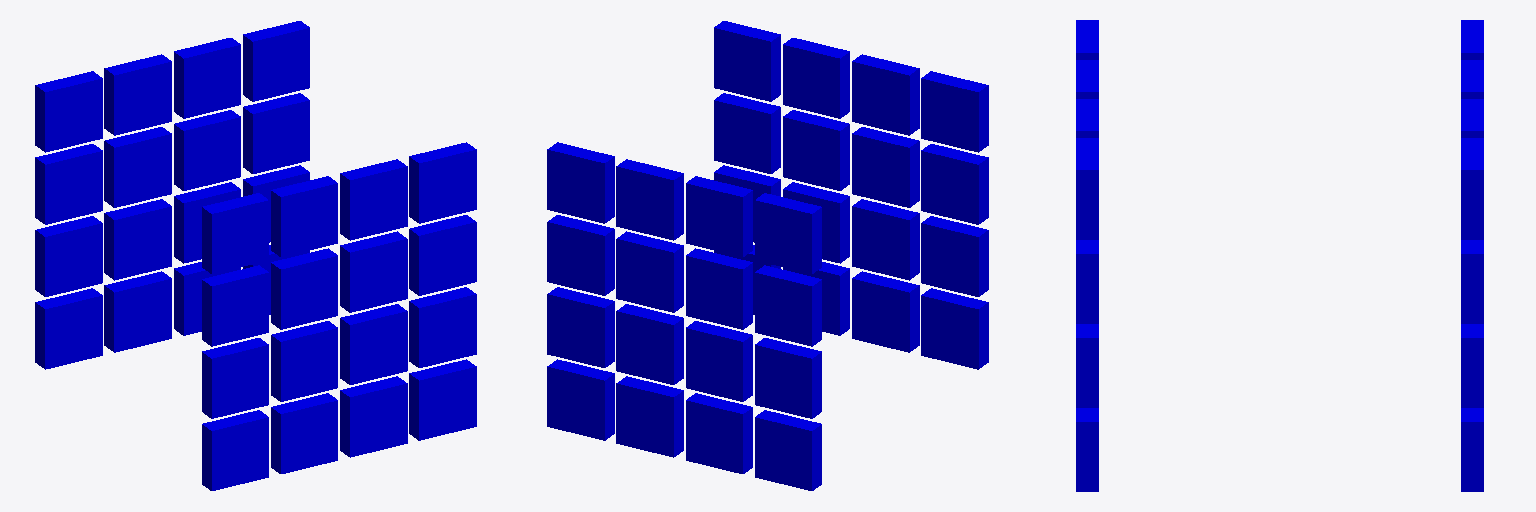
--- Facts derived from the render (not from the file) ---
Views: 3 orthographic renders of the robot side by side, from view 1: azimuth 30°, elevation 25°; view 2: azimuth 150°, elevation 25°; view 3: azimuth 270°, elevation 25°.
Model vx300 with 45 links and 44 joints (5 revolute, 2 prismatic, 37 fixed), rooted at vx300/base_link, posed joints at zero except 2 at the middle of their limits (left_finger = 0.039, right_finger = -0.039).
Links seen in each view (by area): view 1: vx300/left_tactile_map_link13, vx300/right_tactile_map_link4, vx300/left_tactile_map_link10, vx300/left_tactile_map_link15, vx300/right_tactile_map_link2, vx300/right_tactile_map_link7, vx300/left_tactile_map_link11, vx300/left_tactile_map_link16, vx300/right_tactile_map_link1, vx300/right_tactile_map_link6, vx300/left_tactile_map_link9, vx300/left_tactile_map_link12 (+19 smaller); view 2: vx300/left_tactile_map_link4, vx300/right_tactile_map_link13, vx300/left_tactile_map_link1, vx300/left_tactile_map_link6, vx300/right_tactile_map_link11, vx300/right_tactile_map_link16, vx300/left_tactile_map_link2, vx300/right_tactile_map_link15, vx300/left_tactile_map_link5, vx300/left_tactile_map_link7, vx300/left_tactile_map_link8, vx300/right_tactile_map_link9 (+19 smaller); view 3: vx300/left_tactile_map_link4, vx300/right_tactile_map_link4, vx300/left_tactile_map_link1, vx300/left_tactile_map_link2, vx300/left_tactile_map_link3, vx300/right_tactile_map_link1, vx300/right_tactile_map_link2, vx300/right_tactile_map_link3, vx300/left_tactile_map_link16, vx300/right_tactile_map_link16, vx300/left_tactile_map_link8, vx300/left_tactile_map_link12 (+2 smaller).
Link boxes in pixels (<box>): vx300/left_tactile_map_link13: <box>35,288,102,369</box>; vx300/right_tactile_map_link4: <box>409,142,476,223</box>; vx300/left_tactile_map_link10: <box>104,199,171,280</box>; vx300/left_tactile_map_link15: <box>35,144,102,224</box>; vx300/right_tactile_map_link2: <box>409,287,476,367</box>; vx300/right_tactile_map_link7: <box>340,231,407,312</box>; vx300/left_tactile_map_link11: <box>104,127,171,207</box>; vx300/left_tactile_map_link16: <box>35,71,102,152</box>; vx300/right_tactile_map_link1: <box>409,359,476,440</box>; vx300/right_tactile_map_link6: <box>340,304,407,384</box>; vx300/left_tactile_map_link9: <box>104,271,171,352</box>; vx300/left_tactile_map_link12: <box>104,54,171,135</box>; vx300/left_tactile_map_link4: <box>547,142,614,223</box>; vx300/right_tactile_map_link13: <box>921,288,988,369</box>; vx300/left_tactile_map_link1: <box>547,359,614,440</box>; vx300/left_tactile_map_link6: <box>616,304,683,384</box>; vx300/right_tactile_map_link11: <box>852,127,919,207</box>; vx300/right_tactile_map_link16: <box>921,71,988,152</box>; vx300/left_tactile_map_link2: <box>547,287,614,367</box>; vx300/right_tactile_map_link15: <box>921,144,988,224</box>; vx300/left_tactile_map_link5: <box>616,376,683,457</box>; vx300/left_tactile_map_link7: <box>616,231,683,312</box>; vx300/left_tactile_map_link8: <box>616,159,683,240</box>; vx300/right_tactile_map_link9: <box>852,271,919,352</box>; vx300/left_tactile_map_link4: <box>1461,138,1483,239</box>; vx300/right_tactile_map_link4: <box>1076,138,1098,239</box>; vx300/left_tactile_map_link1: <box>1461,408,1483,491</box>; vx300/left_tactile_map_link2: <box>1461,324,1483,407</box>; vx300/left_tactile_map_link3: <box>1461,240,1483,323</box>; vx300/right_tactile_map_link1: <box>1076,408,1098,491</box>; vx300/right_tactile_map_link2: <box>1076,324,1098,407</box>; vx300/right_tactile_map_link3: <box>1076,240,1098,323</box>; vx300/left_tactile_map_link16: <box>1461,20,1483,59</box>; vx300/right_tactile_map_link16: <box>1076,20,1098,59</box>; vx300/left_tactile_map_link8: <box>1461,99,1483,137</box>; vx300/left_tactile_map_link12: <box>1461,60,1483,98</box>.
Bounding box of the posed robot: 0.046 × 0.053 × 0.046 m (x, y, z).
Meshes: 9 distinct files referenced, 0 mesh visuals loaded (none loaded); not drawn: 10 (reference not matched to a file when rendering).

robot.urdf — vx300:
<?xml version="1.0" ?>
<!-- =================================================================================== -->
<!-- |    This document was autogenerated by xacro from vx300.urdf.xacro               | -->
<!-- |    EDITING THIS FILE BY HAND IS NOT RECOMMENDED                                 | -->
<!-- =================================================================================== -->
<robot name="vx300">
  <!-- <material name="interbotix_black">
    <texture filename="meshes/interbotix_black.png"/>
  </material> -->
  <link name="vx300/base_link">
    <visual>
      <origin rpy="0 0 1.5707963267948966" xyz="0 0 0"/>
      <geometry>
        <mesh filename="meshes/vx300_meshes/vx300_1_base.stl" scale="0.001 0.001 0.001"/>
      </geometry>
    </visual>
    <collision>
      <origin rpy="0 0 1.5707963267948966" xyz="0 0 0"/>
      <geometry>
        <mesh filename="meshes/vx300_meshes/vx300_1_base.stl" scale="0.001 0.001 0.001"/>
      </geometry>
    </collision>
    <inertial>
      <origin rpy="0 0 1.5707963267948966" xyz="-0.0534774000 -0.0001625750 0.0205961000"/>
      <mass value="0.969034"/>
      <inertia ixx="0.0060240000" ixy="0.0000471300" ixz="0.0000038510" iyy="0.0017000000" iyz="-0.0000841500" izz="0.0071620000"/>
    </inertial>
  </link>
  <joint name="waist" type="revolute">
    <axis xyz="0 0 1"/>
    <limit effort="30" lower="-3.141582653589793" upper="3.141582653589793" velocity="3.141592653589793"/>
    <origin rpy="0 0 0" xyz="0 0 0.079"/>
    <parent link="vx300/base_link"/>
    <child link="vx300/shoulder_link"/>
    <dynamics friction="0.1"/>
  </joint>

  <link name="vx300/shoulder_link">
    <visual>
      <origin rpy="0 0 1.5707963267948966" xyz="0 0 -0.003"/>
      <geometry>
        <mesh filename="meshes/vx300_meshes/vx300_2_shoulder.stl" scale="0.001 0.001 0.001"/>
      </geometry>
    </visual>
    <collision>
      <origin rpy="0 0 1.5707963267948966" xyz="0 0 -0.003"/>
      <geometry>
        <mesh filename="meshes/vx300_meshes/vx300_2_shoulder.stl" scale="0.001 0.001 0.001"/>
      </geometry>
    </collision>
    <inertial>
      <origin rpy="0 0 1.5707963267948966" xyz="0.0002592330 -0.0000033552 0.0116129000"/>
      <mass value="0.798614"/>
      <inertia ixx="0.0009388000" ixy="-0.0000000010" ixz="-0.0000000191" iyy="0.0011380000" iyz="0.0000019568" izz="0.0012010000"/>
    </inertial>
  </link>
  <joint name="shoulder" type="revolute">
    <axis xyz="0 1 0"/>
    <limit effort="20" lower="-1.8500490071139892" upper="1.2566370614359172" velocity="3.141592653589793"/>
    <origin rpy="0 0 0" xyz="0 0 0.04805"/>
    <parent link="vx300/shoulder_link"/>
    <child link="vx300/upper_arm_link"/>
    <dynamics friction="0.1"/>
  </joint>
  <link name="vx300/upper_arm_link">
    <visual>
      <origin rpy="0 0 1.5707963267948966" xyz="0 0 0"/>
      <geometry>
        <mesh filename="meshes/vx300_meshes/vx300_3_upper_arm.stl" scale="0.001 0.001 0.001"/>
      </geometry>
    </visual>
    <collision>
      <origin rpy="0 0 1.5707963267948966" xyz="0 0 0"/>
      <geometry>
        <mesh filename="meshes/vx300_meshes/vx300_3_upper_arm.stl" scale="0.001 0.001 0.001"/>
      </geometry>
    </collision>
    <inertial>
      <origin rpy="0 0 1.5707963267948966" xyz="0.0206949000 0.0000000004 0.2264590000"/>
      <mass value="0.792592"/>
      <inertia ixx="0.0089250000" ixy="0.0000000000" ixz="0.0000000000" iyy="0.0089370000" iyz="0.0012010000" izz="0.0009357000"/>
    </inertial>
  </link>
  <joint name="elbow" type="revolute">
    <axis xyz="0 1 0"/>
    <limit effort="15" lower="-1.7627825445142729" upper="1.6057029118347832" velocity="3.141592653589793"/>
    <origin rpy="0 0 0" xyz="0.05955 0 0.3"/>
    <parent link="vx300/upper_arm_link"/>
    <child link="vx300/forearm_link"/>
    <dynamics friction="0.1"/>
  </joint>
  <link name="vx300/forearm_link">
    <visual>
      <origin rpy="0 0 1.5707963267948966" xyz="0 0 0"/>
      <geometry>
        <mesh filename="meshes/vx300_meshes/vx300_4_forearm.stl" scale="0.001 0.001 0.001"/>
      </geometry>
    </visual>
    <collision>
      <origin rpy="0 0 1.5707963267948966" xyz="0 0 0"/>
      <geometry>
        <mesh filename="meshes/vx300_meshes/vx300_4_forearm.stl" scale="0.001 0.001 0.001"/>
      </geometry>
    </collision>
    <inertial>
      <origin rpy="0 0 1.5707963267948966" xyz="0.1812650000 -0.0002065037 0.0000000000"/>
      <mass value="0.544659"/>
      <inertia ixx="0.0054470000" ixy="-0.0000119800" ixz="0.0000000000" iyy="0.0002267000" iyz="0.0000000000" izz="0.0055740000"/>
    </inertial>
  </link>
  <joint name="wrist_angle" type="revolute">
    <axis xyz="0 1 0"/>
    <limit effort="5" lower="-1.8675022996339325" upper="2.234021442552742" velocity="3.141592653589793"/>
    <origin rpy="0 0 0" xyz="0.3 0 0"/>
    <parent link="vx300/forearm_link"/>
    <child link="vx300/wrist_link"/>
    <dynamics friction="0.1"/>
  </joint>
  <link name="vx300/wrist_link">
    <visual>
      <origin rpy="0 0 1.5707963267948966" xyz="0 0 0"/>
      <geometry>
        <mesh filename="meshes/vx300_meshes/vx300_5_wrist.stl" scale="0.001 0.001 0.001"/>
      </geometry>
    </visual>
    <collision>
      <origin rpy="0 0 1.5707963267948966" xyz="0 0 0"/>
      <geometry>
        <mesh filename="meshes/vx300_meshes/vx300_5_wrist.stl" scale="0.001 0.001 0.001"/>
      </geometry>
    </collision>
    <inertial>
      <origin rpy="0 0 1.5707963267948966" xyz="0.0467430000 -0.0000076652 0.0105650000"/>
      <mass value="0.115395"/>
      <inertia ixx="0.0000463100" ixy="0.0000000195" ixz="0.0000000023" iyy="0.0000451400" iyz="0.0000042002" izz="0.0000127000"/>
    </inertial>
  </link>
  <joint name="wrist_rotate" type="revolute">
    <axis xyz="1 0 0"/>
    <limit effort="1" lower="-3.141582653589793" upper="3.141582653589793" velocity="3.141592653589793"/>
    <origin rpy="0 0 0" xyz="0.069744 0 0"/>
    <parent link="vx300/wrist_link"/>
    <child link="vx300/gripper_link"/>
    <dynamics friction="0.1"/>
  </joint>
  <link name="vx300/gripper_link">
    <visual>
      <origin rpy="0 0 1.5707963267948966" xyz="-0.02 0 0"/>
      <geometry>
        <mesh filename="meshes/vx300_meshes/vx300_6_gripper.stl" scale="0.001 0.001 0.001"/>
      </geometry>
    </visual>
    <collision>
      <origin rpy="0 0 1.5707963267948966" xyz="-0.02 0 0"/>
      <geometry>
        <mesh filename="meshes/vx300_meshes/vx300_6_gripper.stl" scale="0.001 0.001 0.001"/>
      </geometry>
    </collision>
    <inertial>
      <origin rpy="0 0 1.5707963267948966" xyz="0.0230010000 0.0000000000 0.0115230000"/>
      <mass value="0.097666"/>
      <inertia ixx="0.0000326800" ixy="0.0000000000" ixz="0.0000000000" iyy="0.0000243600" iyz="0.0000002785" izz="0.0000211900"/>
    </inertial>
  </link>
  <joint name="ee_arm" type="fixed">
    <axis xyz="1 0 0"/>
    <origin rpy="0 0 0" xyz="0.042825 0 0"/>
    <parent link="vx300/gripper_link"/>
    <child link="vx300/ee_arm_link"/>
  </joint>
  <link name="vx300/ee_arm_link">
    <inertial>
      <mass value="0.001"/>
      <inertia ixx="0.0001" ixy="0" ixz="0" iyy="0.0001" iyz="0" izz="0.0001"/>
    </inertial>
  </link>
  <joint name="gripper" type="fixed">
    <axis xyz="1 0 0"/>
    <limit effort="1" velocity="3.141592653589793"/>
    <origin rpy="0 0 0" xyz="0.005675 0 0"/>
    <parent link="vx300/ee_arm_link"/>
    <child link="vx300/gripper_prop_link"/>
    <dynamics friction="0.1"/>
  </joint>
  <link name="vx300/gripper_prop_link">
    <visual>
      <origin rpy="0 0 1.5707963267948966" xyz="-0.0685 0 0"/>
      <geometry>
        <mesh filename="meshes/vx300_meshes/vx300_7_gripper_prop.stl" scale="0.001 0.001 0.001"/>
      </geometry>
    </visual>
    <collision>
      <origin rpy="0 0 1.5707963267948966" xyz="-0.0685 0 0"/>
      <geometry>
        <mesh filename="meshes/vx300_meshes/vx300_7_gripper_prop.stl" scale="0.001 0.001 0.001"/>
      </geometry>
    </collision>
    <inertial>
      <origin rpy="0 0 1.5707963267948966" xyz="0.0023780000 0.0000000285 0.0000000000"/>
      <mass value="0.008009"/>
      <inertia ixx="0.0000020386" ixy="0.0000000000" ixz="0.0000006559" iyy="0.0000042979" iyz="0.0000000000" izz="0.0000023796"/>
    </inertial>
  </link>
  <!-- If the AR tag is being used, then add the AR tag mount -->
  <!-- If the gripper bar is being used, then also add the gripper bar -->
  <joint name="gripper_bar" type="fixed">
    <axis xyz="1 0 0"/>
    <origin rpy="0 0 0" xyz="0 0 0"/>
    <parent link="vx300/ee_arm_link"/>
    <child link="vx300/gripper_bar_link"/>
  </joint>
  <link name="vx300/gripper_bar_link">
    <visual>
      <origin rpy="0 0 1.5707963267948966" xyz="-0.063 0 0"/>
      <geometry>
        <mesh filename="meshes/vx300_meshes/vx300_8_gripper_bar.stl" scale="0.001 0.001 0.001"/>
      </geometry>
    </visual>
    <collision>
      <origin rpy="0 0 1.5707963267948966" xyz="-0.063 0 0"/>
      <geometry>
        <mesh filename="meshes/vx300_meshes/vx300_8_gripper_bar.stl" scale="0.001 0.001 0.001"/>
      </geometry>
    </collision>
    <inertial>
      <origin rpy="0 0 1.5707963267948966" xyz="0.0067940000 -0.0000004272 -0.0007760000"/>
      <mass value="0.150986"/>
      <inertia ixx="0.0000789500" ixy="-0.0000000012" ixz="0.0000001341" iyy="0.0003283000" iyz="0.0000017465" izz="0.0003095000"/>
    </inertial>
  </link>
  <joint name="ee_bar" type="fixed">
    <axis xyz="1 0 0"/>
    <origin rpy="0 0 0" xyz="0.025875 0 0"/>
    <parent link="vx300/gripper_bar_link"/>
    <child link="vx300/fingers_link"/>
  </joint>
  <link name="vx300/fingers_link">
    <inertial>
      <mass value="0.001"/>
      <inertia ixx="0.0001" ixy="0" ixz="0" iyy="0.0001" iyz="0" izz="0.0001"/>
    </inertial>
  </link>
  <!-- If the gripper fingers are being used, add those as well -->
  <joint name="left_finger" type="prismatic">
    <axis xyz="0 1 0"/>
    <limit effort="1" lower="0.021" upper="0.057" velocity="3.14"/>
    <origin rpy="0 0 0" xyz="0 0 0"/>
    <parent link="vx300/fingers_link"/>
    <child link="vx300/left_finger_link"/>
    <dynamics friction="0.1"/>
  </joint>
  <link name="vx300/left_finger_link">
    <visual>
      <origin rpy="1.5707963267948966 -3.141592653589793 1.5707963267948966" xyz="-0.0404 -0.0575 0"/>
      <geometry>
        <mesh filename="meshes/vx300_meshes/vx300_9_gripper_finger.stl" scale="0.001 0.001 0.001"/>
      </geometry>
    </visual>
    <collision>
      <origin rpy="1.5707963267948966 -3.141592653589793 1.5707963267948966" xyz="-0.0404 -0.0575 0"/>
      <geometry>
        <mesh filename="meshes/vx300_meshes/vx300_9_gripper_finger.stl" scale="0.001 0.001 0.001"/>
      </geometry>
    </collision>
    <inertial>
      <origin rpy="3.141592653589793 3.141592653589793 1.5707963267948966" xyz="0.0173440000 -0.0060692000 0.0000000000"/>
      <!-- <mass value="0.034796"/> -->
      <mass value="0.001"/>
      <inertia ixx="0.0000243300" ixy="-0.0000024004" ixz="0.0000000000" iyy="0.0000125500" iyz="0.0000000000" izz="0.0000141700"/>
    </inertial>
  </link>

  <!-- ====================================If the tactile sensors are being used, add those as well ======================================-->
  <joint name="left_tactile_1" type="fixed">
    <axis xyz="1 0 0"/>
    <origin rpy="0 0 1.5707" xyz="0 0 0"/>
    <parent link="vx300/left_finger_link"/>
    <child link="vx300/left_tactile_map_link1"/>
  </joint>
  <link name="vx300/left_tactile_map_link1">
    <visual>
      <origin rpy="0 0 0" xyz="-0.014 -0.05 -0.018"/>
      <geometry>
        <box size="0.003001 0.01 0.01"/>
      </geometry>
      <material name="blue">
        <color rgba= "0 0 1 1"/>
      </material>
    </visual>
    <collision>
      <origin rpy="0 0 0" xyz="-0.014 -0.05 -0.018"/>
      <geometry>
        <box size="0.003001 0.01 0.01"/>
      </geometry>
    </collision>
    <inertial>
      <origin rpy="3.141592653589793 3.141592653589793 1.5707963267948966" xyz="0.0173440000 -0.0060692000 0.0000000000"/>
      <!-- <mass value="0.034796"/> -->
      <mass value="0.0001"/>
      <inertia ixx="0.0000243300" ixy="-0.0000024004" ixz="0.0000000000" iyy="0.0000125500" iyz="0.0000000000" izz="0.0000141700"/>
    </inertial>
  </link>

  <joint name="left_tactile_2" type="fixed">
    <axis xyz="1 0 0"/>
    <origin rpy="0 0 1.5707" xyz="0 0 0"/>
    <parent link="vx300/left_finger_link"/>
    <child link="vx300/left_tactile_map_link2"/>
  </joint>
  <link name="vx300/left_tactile_map_link2">
    <visual>
      <origin rpy="0 0 0" xyz="-0.014 -0.05 -0.006"/>
      <geometry>
        <box size="0.003001 0.01 0.01"/>
      </geometry>
      <material name="blue">
        <color rgba= "0 0 1 1"/>
      </material>
    </visual>
    <collision>
      <origin rpy="0 0 0" xyz="-0.014 -0.05 -0.006"/>
      <geometry>
        <box size="0.003001 0.01 0.01"/>
      </geometry>
    </collision>
    <inertial>
      <origin rpy="3.141592653589793 3.141592653589793 1.5707963267948966" xyz="0.0173440000 -0.0060692000 0.0000000000"/>
      <!-- <mass value="0.034796"/> -->
      <mass value="0.0001"/>
      <inertia ixx="0.0000243300" ixy="-0.0000024004" ixz="0.0000000000" iyy="0.0000125500" iyz="0.0000000000" izz="0.0000141700"/>
    </inertial>
  </link>

  <joint name="left_tactile_3" type="fixed">
    <axis xyz="1 0 0"/>
    <origin rpy="0 0 1.5707" xyz="0 0 0"/>
    <parent link="vx300/left_finger_link"/>
    <child link="vx300/left_tactile_map_link3"/>
  </joint>
  <link name="vx300/left_tactile_map_link3">
    <visual>
      <origin rpy="0 0 0" xyz="-0.014 -0.05 0.006"/>
      <geometry>
        <box size="0.003001 0.01 0.01"/>
      </geometry>
      <material name="blue">
        <color rgba= "0 0 1 1"/>
      </material>
    </visual>
    <collision>
      <origin rpy="0 0 0" xyz="-0.014 -0.05 0.006"/>
      <geometry>
        <box size="0.003001 0.01 0.01"/>
      </geometry>
    </collision>
    <inertial>
      <origin rpy="3.141592653589793 3.141592653589793 1.5707963267948966" xyz="0.0173440000 -0.0060692000 0.0000000000"/>
      <!-- <mass value="0.034796"/> -->
      <mass value="0.0001"/>
      <inertia ixx="0.0000243300" ixy="-0.0000024004" ixz="0.0000000000" iyy="0.0000125500" iyz="0.0000000000" izz="0.0000141700"/>
    </inertial>
  </link>

  <joint name="left_tactile_4" type="fixed">
    <axis xyz="1 0 0"/>
    <origin rpy="0 0 1.5707" xyz="0 0 0"/>
    <parent link="vx300/left_finger_link"/>
    <child link="vx300/left_tactile_map_link4"/>
  </joint>
  <link name="vx300/left_tactile_map_link4">
    <visual>
      <origin rpy="0 0 0" xyz="-0.014 -0.05 0.018"/>
      <geometry>
        <box size="0.003001 0.01 0.01"/>
      </geometry>
      <material name="blue">
        <color rgba= "0 0 1 1"/>
      </material>
    </visual>
    <collision>
      <origin rpy="0 0 0" xyz="-0.014 -0.05 0.018"/>
      <geometry>
        <box size="0.003001 0.01 0.01"/>
      </geometry>
    </collision>
    <inertial>
      <origin rpy="3.141592653589793 3.141592653589793 1.5707963267948966" xyz="0.0173440000 -0.0060692000 0.0000000000"/>
      <!-- <mass value="0.034796"/> -->
      <mass value="0.0001"/>
      <inertia ixx="0.0000243300" ixy="-0.0000024004" ixz="0.0000000000" iyy="0.0000125500" iyz="0.0000000000" izz="0.0000141700"/>
    </inertial>
  </link>

  <joint name="left_tactile_5" type="fixed">
    <axis xyz="1 0 0"/>
    <origin rpy="0 0 1.5707" xyz="0 0 0"/>
    <parent link="vx300/left_finger_link"/>
    <child link="vx300/left_tactile_map_link5"/>
  </joint>
  <link name="vx300/left_tactile_map_link5">
    <visual>
      <origin rpy="0 0 0" xyz="-0.014 -0.038 -0.018"/>
      <geometry>
        <box size="0.003001 0.01 0.01"/>
      </geometry>
      <material name="blue">
        <color rgba= "0 0 1 1"/>
      </material>
    </visual>
    <collision>
      <origin rpy="0 0 0" xyz="-0.014 -0.038 -0.018"/>
      <geometry>
        <box size="0.003001 0.01 0.01"/>
      </geometry>
    </collision>
    <inertial>
      <origin rpy="3.141592653589793 3.141592653589793 1.5707963267948966" xyz="0.0173440000 -0.0060692000 0.0000000000"/>
      <!-- <mass value="0.034796"/> -->
      <mass value="0.0001"/>
      <inertia ixx="0.0000243300" ixy="-0.0000024004" ixz="0.0000000000" iyy="0.0000125500" iyz="0.0000000000" izz="0.0000141700"/>
    </inertial>
  </link>

  <joint name="left_tactile_6" type="fixed">
    <axis xyz="1 0 0"/>
    <origin rpy="0 0 1.5707" xyz="0 0 0"/>
    <parent link="vx300/left_finger_link"/>
    <child link="vx300/left_tactile_map_link6"/>
  </joint>
  <link name="vx300/left_tactile_map_link6">
    <visual>
      <origin rpy="0 0 0" xyz="-0.014 -0.038 -0.006"/>
      <geometry>
        <box size="0.003001 0.01 0.01"/>
      </geometry>
      <material name="blue">
        <color rgba= "0 0 1 1"/>
      </material>
    </visual>
    <collision>
      <origin rpy="0 0 0" xyz="-0.014 -0.038 -0.006"/>
      <geometry>
        <box size="0.003001 0.01 0.01"/>
      </geometry>
    </collision>
    <inertial>
      <origin rpy="3.141592653589793 3.141592653589793 1.5707963267948966" xyz="0.0173440000 -0.0060692000 0.0000000000"/>
      <!-- <mass value="0.034796"/> -->
      <mass value="0.0001"/>
      <inertia ixx="0.0000243300" ixy="-0.0000024004" ixz="0.0000000000" iyy="0.0000125500" iyz="0.0000000000" izz="0.0000141700"/>
    </inertial>
  </link>

  <joint name="left_tactile_7" type="fixed">
    <axis xyz="1 0 0"/>
    <origin rpy="0 0 1.5707" xyz="0 0 0"/>
    <parent link="vx300/left_finger_link"/>
    <child link="vx300/left_tactile_map_link7"/>
  </joint>
  <link name="vx300/left_tactile_map_link7">
    <visual>
      <origin rpy="0 0 0" xyz="-0.014 -0.038 0.006"/>
      <geometry>
        <box size="0.003001 0.01 0.01"/>
      </geometry>
      <material name="blue">
        <color rgba= "0 0 1 1"/>
      </material>
    </visual>
    <collision>
      <origin rpy="0 0 0" xyz="-0.014 -0.038 0.006"/>
      <geometry>
        <box size="0.003001 0.01 0.01"/>
      </geometry>
    </collision>
    <inertial>
      <origin rpy="3.141592653589793 3.141592653589793 1.5707963267948966" xyz="0.0173440000 -0.0060692000 0.0000000000"/>
      <!-- <mass value="0.034796"/> -->
      <mass value="0.0001"/>
      <inertia ixx="0.0000243300" ixy="-0.0000024004" ixz="0.0000000000" iyy="0.0000125500" iyz="0.0000000000" izz="0.0000141700"/>
    </inertial>
  </link>

  <joint name="left_tactile_8" type="fixed">
    <axis xyz="1 0 0"/>
    <origin rpy="0 0 1.5707" xyz="0 0 0"/>
    <parent link="vx300/left_finger_link"/>
    <child link="vx300/left_tactile_map_link8"/>
  </joint>
  <link name="vx300/left_tactile_map_link8">
    <visual>
      <origin rpy="0 0 0" xyz="-0.014 -0.038 0.018"/>
      <geometry>
        <box size="0.003001 0.01 0.01"/>
      </geometry>
      <material name="blue">
        <color rgba= "0 0 1 1"/>
      </material>
    </visual>
    <collision>
      <origin rpy="0 0 0" xyz="-0.014 -0.038 0.018"/>
      <geometry>
        <box size="0.003001 0.01 0.01"/>
      </geometry>
    </collision>
    <inertial>
      <origin rpy="3.141592653589793 3.141592653589793 1.5707963267948966" xyz="0.0173440000 -0.0060692000 0.0000000000"/>
      <!-- <mass value="0.034796"/> -->
      <mass value="0.0001"/>
      <inertia ixx="0.0000243300" ixy="-0.0000024004" ixz="0.0000000000" iyy="0.0000125500" iyz="0.0000000000" izz="0.0000141700"/>
    </inertial>
  </link>

  <joint name="left_tactile_9" type="fixed">
    <axis xyz="1 0 0"/>
    <origin rpy="0 0 1.5707" xyz="0 0 0"/>
    <parent link="vx300/left_finger_link"/>
    <child link="vx300/left_tactile_map_link9"/>
  </joint>
  <link name="vx300/left_tactile_map_link9">
    <visual>
      <origin rpy="0 0 0" xyz="-0.014 -0.026 -0.018"/>
      <geometry>
        <box size="0.003001 0.01 0.01"/>
      </geometry>
      <material name="blue">
        <color rgba= "0 0 1 1"/>
      </material>
    </visual>
    <collision>
      <origin rpy="0 0 0" xyz="-0.014 -0.026 -0.018"/>
      <geometry>
        <box size="0.003001 0.01 0.01"/>
      </geometry>
    </collision>
    <inertial>
      <origin rpy="3.141592653589793 3.141592653589793 1.5707963267948966" xyz="0.0173440000 -0.0060692000 0.0000000000"/>
      <!-- <mass value="0.034796"/> -->
      <mass value="0.0001"/>
      <inertia ixx="0.0000243300" ixy="-0.0000024004" ixz="0.0000000000" iyy="0.0000125500" iyz="0.0000000000" izz="0.0000141700"/>
    </inertial>
  </link>

  <joint name="left_tactile_10" type="fixed">
    <axis xyz="1 0 0"/>
    <origin rpy="0 0 1.5707" xyz="0 0 0"/>
    <parent link="vx300/left_finger_link"/>
    <child link="vx300/left_tactile_map_link10"/>
  </joint>
  <link name="vx300/left_tactile_map_link10">
    <visual>
      <origin rpy="0 0 0" xyz="-0.014 -0.026 -0.006"/>
      <geometry>
        <box size="0.003001 0.01 0.01"/>
      </geometry>
      <material name="blue">
        <color rgba= "0 0 1 1"/>
      </material>
    </visual>
    <collision>
      <origin rpy="0 0 0" xyz="-0.014 -0.026 -0.006"/>
      <geometry>
        <box size="0.003001 0.01 0.01"/>
      </geometry>
    </collision>
    <inertial>
      <origin rpy="3.141592653589793 3.141592653589793 1.5707963267948966" xyz="0.0173440000 -0.0060692000 0.0000000000"/>
      <!-- <mass value="0.034796"/> -->
      <mass value="0.0001"/>
      <inertia ixx="0.0000243300" ixy="-0.0000024004" ixz="0.0000000000" iyy="0.0000125500" iyz="0.0000000000" izz="0.0000141700"/>
    </inertial>
  </link>

  <joint name="left_tactile_11" type="fixed">
    <axis xyz="1 0 0"/>
    <origin rpy="0 0 1.5707" xyz="0 0 0"/>
    <parent link="vx300/left_finger_link"/>
    <child link="vx300/left_tactile_map_link11"/>
  </joint>
  <link name="vx300/left_tactile_map_link11">
    <visual>
      <origin rpy="0 0 0" xyz="-0.014 -0.026 0.006"/>
      <geometry>
        <box size="0.003001 0.01 0.01"/>
      </geometry>
      <material name="blue">
        <color rgba= "0 0 1 1"/>
      </material>
    </visual>
    <collision>
      <origin rpy="0 0 0" xyz="-0.014 -0.026 0.006"/>
      <geometry>
        <box size="0.003001 0.01 0.01"/>
      </geometry>
    </collision>
    <inertial>
      <origin rpy="3.141592653589793 3.141592653589793 1.5707963267948966" xyz="0.0173440000 -0.0060692000 0.0000000000"/>
      <!-- <mass value="0.034796"/> -->
      <mass value="0.0001"/>
      <inertia ixx="0.0000243300" ixy="-0.0000024004" ixz="0.0000000000" iyy="0.0000125500" iyz="0.0000000000" izz="0.0000141700"/>
    </inertial>
  </link>

  <joint name="left_tactile_12" type="fixed">
    <axis xyz="1 0 0"/>
    <origin rpy="0 0 1.5707" xyz="0 0 0"/>
    <parent link="vx300/left_finger_link"/>
    <child link="vx300/left_tactile_map_link12"/>
  </joint>
  <link name="vx300/left_tactile_map_link12">
    <visual>
      <origin rpy="0 0 0" xyz="-0.014 -0.026 0.018"/>
      <geometry>
        <box size="0.003001 0.01 0.01"/>
      </geometry>
      <material name="blue">
        <color rgba= "0 0 1 1"/>
      </material>
    </visual>
    <collision>
      <origin rpy="0 0 0" xyz="-0.014 -0.026 0.018"/>
      <geometry>
        <box size="0.003001 0.01 0.01"/>
      </geometry>
    </collision>
    <inertial>
      <origin rpy="3.141592653589793 3.141592653589793 1.5707963267948966" xyz="0.0173440000 -0.0060692000 0.0000000000"/>
      <!-- <mass value="0.034796"/> -->
      <mass value="0.0001"/>
      <inertia ixx="0.0000243300" ixy="-0.0000024004" ixz="0.0000000000" iyy="0.0000125500" iyz="0.0000000000" izz="0.0000141700"/>
    </inertial>
  </link>

  <joint name="left_tactile_13" type="fixed">
    <axis xyz="1 0 0"/>
    <origin rpy="0 0 1.5707" xyz="0 0 0"/>
    <parent link="vx300/left_finger_link"/>
    <child link="vx300/left_tactile_map_link13"/>
  </joint>
  <link name="vx300/left_tactile_map_link13">
    <visual>
      <origin rpy="0 0 0" xyz="-0.014 -0.014 -0.018"/>
      <geometry>
        <box size="0.003001 0.01 0.01"/>
      </geometry>
      <material name="blue">
        <color rgba= "0 0 1 1"/>
      </material>
    </visual>
    <collision>
      <origin rpy="0 0 0" xyz="-0.014 -0.014 -0.018"/>
      <geometry>
        <box size="0.003001 0.01 0.01"/>
      </geometry>
    </collision>
    <inertial>
      <origin rpy="3.141592653589793 3.141592653589793 1.5707963267948966" xyz="0.0173440000 -0.0060692000 0.0000000000"/>
      <!-- <mass value="0.034796"/> -->
      <mass value="0.0001"/>
      <inertia ixx="0.0000243300" ixy="-0.0000024004" ixz="0.0000000000" iyy="0.0000125500" iyz="0.0000000000" izz="0.0000141700"/>
    </inertial>
  </link>

  <joint name="left_tactile_14" type="fixed">
    <axis xyz="1 0 0"/>
    <origin rpy="0 0 1.5707" xyz="0 0 0"/>
    <parent link="vx300/left_finger_link"/>
    <child link="vx300/left_tactile_map_link14"/>
  </joint>
  <link name="vx300/left_tactile_map_link14">
    <visual>
      <origin rpy="0 0 0" xyz="-0.014 -0.014 -0.006"/>
      <geometry>
        <box size="0.003001 0.01 0.01"/>
      </geometry>
      <material name="blue">
        <color rgba= "0 0 1 1"/>
      </material>
    </visual>
    <collision>
      <origin rpy="0 0 0" xyz="-0.014 -0.014 -0.006"/>
      <geometry>
        <box size="0.003001 0.01 0.01"/>
      </geometry>
    </collision>
    <inertial>
      <origin rpy="3.141592653589793 3.141592653589793 1.5707963267948966" xyz="0.0173440000 -0.0060692000 0.0000000000"/>
      <!-- <mass value="0.034796"/> -->
      <mass value="0.0001"/>
      <inertia ixx="0.0000243300" ixy="-0.0000024004" ixz="0.0000000000" iyy="0.0000125500" iyz="0.0000000000" izz="0.0000141700"/>
    </inertial>
  </link>

  <joint name="left_tactile_15" type="fixed">
    <axis xyz="1 0 0"/>
    <origin rpy="0 0 1.5707" xyz="0 0 0"/>
    <parent link="vx300/left_finger_link"/>
    <child link="vx300/left_tactile_map_link15"/>
  </joint>
  <link name="vx300/left_tactile_map_link15">
    <visual>
      <origin rpy="0 0 0" xyz="-0.014 -0.014 0.006"/>
      <geometry>
        <box size="0.003001 0.01 0.01"/>
      </geometry>
      <material name="blue">
        <color rgba= "0 0 1 1"/>
      </material>
    </visual>
    <collision>
      <origin rpy="0 0 0" xyz="-0.014 -0.014 0.006"/>
      <geometry>
        <box size="0.003001 0.01 0.01"/>
      </geometry>
    </collision>
    <inertial>
      <origin rpy="3.141592653589793 3.141592653589793 1.5707963267948966" xyz="0.0173440000 -0.0060692000 0.0000000000"/>
      <!-- <mass value="0.034796"/> -->
      <mass value="0.0001"/>
      <inertia ixx="0.0000243300" ixy="-0.0000024004" ixz="0.0000000000" iyy="0.0000125500" iyz="0.0000000000" izz="0.0000141700"/>
    </inertial>
  </link>

  <joint name="left_tactile_16" type="fixed">
    <axis xyz="1 0 0"/>
    <origin rpy="0 0 1.5707" xyz="0 0 0"/>
    <parent link="vx300/left_finger_link"/>
    <child link="vx300/left_tactile_map_link16"/>
  </joint>
  <link name="vx300/left_tactile_map_link16">
    <visual>
      <origin rpy="0 0 0" xyz="-0.014 -0.014 0.018"/>
      <geometry>
        <box size="0.003001 0.01 0.01"/>
      </geometry>
      <material name="blue">
        <color rgba= "0 0 1 1"/>
      </material>
    </visual>
    <collision>
      <origin rpy="0 0 0" xyz="-0.014 -0.014 0.018"/>
      <geometry>
        <box size="0.003001 0.01 0.01"/>
      </geometry>
    </collision>
    <inertial>
      <origin rpy="3.141592653589793 3.141592653589793 1.5707963267948966" xyz="0.0173440000 -0.0060692000 0.0000000000"/>
      <!-- <mass value="0.034796"/> -->
      <mass value="0.0001"/>
      <inertia ixx="0.0000243300" ixy="-0.0000024004" ixz="0.0000000000" iyy="0.0000125500" iyz="0.0000000000" izz="0.0000141700"/>
    </inertial>
  </link>

  <!-- ====================================If the tactile sensors are being used, add those as well ======================================-->

  <joint name="right_finger" type="prismatic">
    <axis xyz="0 1 0"/>
    <limit effort="1" lower="-0.057" upper="-0.021" velocity="3.14"/>
    <origin rpy="0 0 0" xyz="0 0 0"/>
    <parent link="vx300/fingers_link"/>
    <child link="vx300/right_finger_link"/>
    <dynamics friction="0.1"/>
    <mimic joint="left_finger" multiplier="-1" offset="0"/>
  </joint>
  <link name="vx300/right_finger_link">
    <visual>
      <origin rpy="-1.5707963267948966 3.141592653589793 -1.5707963267948966" xyz="-0.0404 0.0575 0 "/>
      <geometry>
        <mesh filename="meshes/vx300_meshes/vx300_9_gripper_finger.stl" scale="0.001 0.001 0.001"/>
      </geometry>
    </visual>
    <collision>
      <origin rpy="-1.5707963267948966 3.141592653589793 -1.5707963267948966" xyz="-0.0404 0.0575 0 "/>
      <geometry>
        <mesh filename="meshes/vx300_meshes/vx300_9_gripper_finger.stl" scale="0.001 0.001 0.001"/>
      </geometry>
    </collision>
    <inertial>
      <origin rpy="0 3.141592653589793 1.5707963267948966" xyz="0.0173440000 0.0060692000  0.0000000000"/>
      <!-- <mass value="0.034796"/> -->
      <mass value="0.001"/>
      <inertia ixx="0.0000243300" ixy="0.0000024001" ixz="0.0000000000" iyy="0.0000125500" iyz="0.0000000000" izz="0.0000141700"/>
    </inertial>
  </link>

  <!-- ====================================If the tactile sensors are being used, add those as well ======================================-->

  <joint name="right_tactile_1" type="fixed">
    <axis xyz="1 0 0"/>
    <origin rpy="0 0 1.5707" xyz="0 0 0"/>
    <parent link="vx300/right_finger_link"/>
    <child link="vx300/right_tactile_map_link1"/>
  </joint>
  <link name="vx300/right_tactile_map_link1">
    <visual>
      <origin rpy="0 0 0" xyz="0.014 -0.05 -0.018"/>
      <geometry>
        <box size="0.003001 0.01 0.01"/>
      </geometry>
      <material name="blue">
        <color rgba= "0 0 1 1"/>
      </material>
    </visual>
    <collision>
      <origin rpy="0 0 0" xyz="0.014 -0.05 -0.018"/>
      <geometry>
        <box size="0.003001 0.01 0.01"/>
      </geometry>
    </collision>
    <inertial>
      <origin rpy="3.141592653589793 3.141592653589793 1.5707963267948966" xyz="0.0173440000 -0.0060692000 0.0000000000"/>
      <!-- <mass value="0.034796"/> -->
      <mass value="0.0001"/>
      <inertia ixx="0.0000243300" ixy="-0.0000024004" ixz="0.0000000000" iyy="0.0000125500" iyz="0.0000000000" izz="0.0000141700"/>
    </inertial>
  </link>

  <joint name="right_tactile_2" type="fixed">
    <axis xyz="1 0 0"/>
    <origin rpy="0 0 1.5707" xyz="0 0 0"/>
    <parent link="vx300/right_finger_link"/>
    <child link="vx300/right_tactile_map_link2"/>
  </joint>
  <link name="vx300/right_tactile_map_link2">
    <visual>
      <origin rpy="0 0 0" xyz="0.014 -0.05 -0.006"/>
      <geometry>
        <box size="0.003001 0.01 0.01"/>
      </geometry>
      <material name="blue">
        <color rgba= "0 0 1 1"/>
      </material>
    </visual>
    <collision>
      <origin rpy="0 0 0" xyz="0.014 -0.05 -0.006"/>
      <geometry>
        <box size="0.003001 0.01 0.01"/>
      </geometry>
    </collision>
    <inertial>
      <origin rpy="3.141592653589793 3.141592653589793 1.5707963267948966" xyz="0.0173440000 -0.0060692000 0.0000000000"/>
      <!-- <mass value="0.034796"/> -->
      <mass value="0.0001"/>
      <inertia ixx="0.0000243300" ixy="-0.0000024004" ixz="0.0000000000" iyy="0.0000125500" iyz="0.0000000000" izz="0.0000141700"/>
    </inertial>
  </link>

  <joint name="right_tactile_3" type="fixed">
    <axis xyz="1 0 0"/>
    <origin rpy="0 0 1.5707" xyz="0 0 0"/>
    <parent link="vx300/right_finger_link"/>
    <child link="vx300/right_tactile_map_link3"/>
  </joint>
  <link name="vx300/right_tactile_map_link3">
    <visual>
      <origin rpy="0 0 0" xyz="0.014 -0.05 0.006"/>
      <geometry>
        <box size="0.003001 0.01 0.01"/>
      </geometry>
      <material name="blue">
        <color rgba= "0 0 1 1"/>
      </material>
    </visual>
    <collision>
      <origin rpy="0 0 0" xyz="0.014 -0.05 0.006"/>
      <geometry>
        <box size="0.003001 0.01 0.01"/>
      </geometry>
    </collision>
    <inertial>
      <origin rpy="3.141592653589793 3.141592653589793 1.5707963267948966" xyz="0.0173440000 -0.0060692000 0.0000000000"/>
      <!-- <mass value="0.034796"/> -->
      <mass value="0.0001"/>
      <inertia ixx="0.0000243300" ixy="-0.0000024004" ixz="0.0000000000" iyy="0.0000125500" iyz="0.0000000000" izz="0.0000141700"/>
    </inertial>
  </link>

  <joint name="right_tactile_4" type="fixed">
    <axis xyz="1 0 0"/>
    <origin rpy="0 0 1.5707" xyz="0 0 0"/>
    <parent link="vx300/right_finger_link"/>
    <child link="vx300/right_tactile_map_link4"/>
  </joint>
  <link name="vx300/right_tactile_map_link4">
    <visual>
      <origin rpy="0 0 0" xyz="0.014 -0.05 0.018"/>
      <geometry>
        <box size="0.003001 0.01 0.01"/>
      </geometry>
      <material name="blue">
        <color rgba= "0 0 1 1"/>
      </material>
    </visual>
    <collision>
      <origin rpy="0 0 0" xyz="0.014 -0.05 0.018"/>
      <geometry>
        <box size="0.003001 0.01 0.01"/>
      </geometry>
    </collision>
    <inertial>
      <origin rpy="3.141592653589793 3.141592653589793 1.5707963267948966" xyz="0.0173440000 -0.0060692000 0.0000000000"/>
      <!-- <mass value="0.034796"/> -->
      <mass value="0.0001"/>
      <inertia ixx="0.0000243300" ixy="-0.0000024004" ixz="0.0000000000" iyy="0.0000125500" iyz="0.0000000000" izz="0.0000141700"/>
    </inertial>
  </link>

  <joint name="right_tactile_5" type="fixed">
    <axis xyz="1 0 0"/>
    <origin rpy="0 0 1.5707" xyz="0 0 0"/>
    <parent link="vx300/right_finger_link"/>
    <child link="vx300/right_tactile_map_link5"/>
  </joint>
  <link name="vx300/right_tactile_map_link5">
    <visual>
      <origin rpy="0 0 0" xyz="0.014 -0.038 -0.018"/>
      <geometry>
        <box size="0.003001 0.01 0.01"/>
      </geometry>
      <material name="blue">
        <color rgba= "0 0 1 1"/>
      </material>
    </visual>
    <collision>
      <origin rpy="0 0 0" xyz="0.014 -0.038 -0.018"/>
      <geometry>
        <box size="0.003001 0.01 0.01"/>
      </geometry>
    </collision>
    <inertial>
      <origin rpy="3.141592653589793 3.141592653589793 1.5707963267948966" xyz="0.0173440000 -0.0060692000 0.0000000000"/>
      <!-- <mass value="0.034796"/> -->
      <mass value="0.0001"/>
      <inertia ixx="0.0000243300" ixy="-0.0000024004" ixz="0.0000000000" iyy="0.0000125500" iyz="0.0000000000" izz="0.0000141700"/>
    </inertial>
  </link>

  <joint name="right_tactile_6" type="fixed">
    <axis xyz="1 0 0"/>
    <origin rpy="0 0 1.5707" xyz="0 0 0"/>
    <parent link="vx300/right_finger_link"/>
    <child link="vx300/right_tactile_map_link6"/>
  </joint>
  <link name="vx300/right_tactile_map_link6">
    <visual>
      <origin rpy="0 0 0" xyz="0.014 -0.038 -0.006"/>
      <geometry>
        <box size="0.003001 0.01 0.01"/>
      </geometry>
      <material name="blue">
        <color rgba= "0 0 1 1"/>
      </material>
    </visual>
    <collision>
      <origin rpy="0 0 0" xyz="0.014 -0.038 -0.006"/>
      <geometry>
        <box size="0.003001 0.01 0.01"/>
      </geometry>
    </collision>
    <inertial>
      <origin rpy="3.141592653589793 3.141592653589793 1.5707963267948966" xyz="0.0173440000 -0.0060692000 0.0000000000"/>
      <!-- <mass value="0.034796"/> -->
      <mass value="0.0001"/>
      <inertia ixx="0.0000243300" ixy="-0.0000024004" ixz="0.0000000000" iyy="0.0000125500" iyz="0.0000000000" izz="0.0000141700"/>
    </inertial>
  </link>

  <joint name="right_tactile_7" type="fixed">
    <axis xyz="1 0 0"/>
    <origin rpy="0 0 1.5707" xyz="0 0 0"/>
    <parent link="vx300/right_finger_link"/>
    <child link="vx300/right_tactile_map_link7"/>
  </joint>
  <link name="vx300/right_tactile_map_link7">
    <visual>
      <origin rpy="0 0 0" xyz="0.014 -0.038 0.006"/>
      <geometry>
        <box size="0.003001 0.01 0.01"/>
      </geometry>
      <material name="blue">
        <color rgba= "0 0 1 1"/>
      </material>
    </visual>
    <collision>
      <origin rpy="0 0 0" xyz="0.014 -0.038 0.006"/>
      <geometry>
        <box size="0.003001 0.01 0.01"/>
      </geometry>
    </collision>
    <inertial>
      <origin rpy="3.141592653589793 3.141592653589793 1.5707963267948966" xyz="0.0173440000 -0.0060692000 0.0000000000"/>
      <!-- <mass value="0.034796"/> -->
      <mass value="0.0001"/>
      <inertia ixx="0.0000243300" ixy="-0.0000024004" ixz="0.0000000000" iyy="0.0000125500" iyz="0.0000000000" izz="0.0000141700"/>
    </inertial>
  </link>

  <joint name="right_tactile_8" type="fixed">
    <axis xyz="1 0 0"/>
    <origin rpy="0 0 1.5707" xyz="0 0 0"/>
    <parent link="vx300/right_finger_link"/>
    <child link="vx300/right_tactile_map_link8"/>
  </joint>
  <link name="vx300/right_tactile_map_link8">
    <visual>
      <origin rpy="0 0 0" xyz="0.014 -0.038 0.018"/>
      <geometry>
        <box size="0.003001 0.01 0.01"/>
      </geometry>
      <material name="blue">
        <color rgba= "0 0 1 1"/>
      </material>
    </visual>
    <collision>
      <origin rpy="0 0 0" xyz="0.014 -0.038 0.018"/>
      <geometry>
        <box size="0.003001 0.01 0.01"/>
      </geometry>
    </collision>
    <inertial>
      <origin rpy="3.141592653589793 3.141592653589793 1.5707963267948966" xyz="0.0173440000 -0.0060692000 0.0000000000"/>
      <!-- <mass value="0.034796"/> -->
      <mass value="0.0001"/>
      <inertia ixx="0.0000243300" ixy="-0.0000024004" ixz="0.0000000000" iyy="0.0000125500" iyz="0.0000000000" izz="0.0000141700"/>
    </inertial>
  </link>

  <joint name="right_tactile_9" type="fixed">
    <axis xyz="1 0 0"/>
    <origin rpy="0 0 1.5707" xyz="0 0 0"/>
    <parent link="vx300/right_finger_link"/>
    <child link="vx300/right_tactile_map_link9"/>
  </joint>
  <link name="vx300/right_tactile_map_link9">
    <visual>
      <origin rpy="0 0 0" xyz="0.014 -0.026 -0.018"/>
      <geometry>
        <box size="0.003001 0.01 0.01"/>
      </geometry>
      <material name="blue">
        <color rgba= "0 0 1 1"/>
      </material>
    </visual>
    <collision>
      <origin rpy="0 0 0" xyz="0.014 -0.026 -0.018"/>
      <geometry>
        <box size="0.003001 0.01 0.01"/>
      </geometry>
    </collision>
    <inertial>
      <origin rpy="3.141592653589793 3.141592653589793 1.5707963267948966" xyz="0.0173440000 -0.0060692000 0.0000000000"/>
      <!-- <mass value="0.034796"/> -->
      <mass value="0.0001"/>
      <inertia ixx="0.0000243300" ixy="-0.0000024004" ixz="0.0000000000" iyy="0.0000125500" iyz="0.0000000000" izz="0.0000141700"/>
    </inertial>
  </link>

  <joint name="right_tactile_10" type="fixed">
    <axis xyz="1 0 0"/>
    <origin rpy="0 0 1.5707" xyz="0 0 0"/>
    <parent link="vx300/right_finger_link"/>
    <child link="vx300/right_tactile_map_link10"/>
  </joint>
  <link name="vx300/right_tactile_map_link10">
    <visual>
      <origin rpy="0 0 0" xyz="0.014 -0.026 -0.006"/>
      <geometry>
        <box size="0.003001 0.01 0.01"/>
      </geometry>
      <material name="blue">
        <color rgba= "0 0 1 1"/>
      </material>
    </visual>
    <collision>
      <origin rpy="0 0 0" xyz="0.014 -0.026 -0.006"/>
      <geometry>
        <box size="0.003001 0.01 0.01"/>
      </geometry>
    </collision>
    <inertial>
      <origin rpy="3.141592653589793 3.141592653589793 1.5707963267948966" xyz="0.0173440000 -0.0060692000 0.0000000000"/>
      <!-- <mass value="0.034796"/> -->
      <mass value="0.0001"/>
      <inertia ixx="0.0000243300" ixy="-0.0000024004" ixz="0.0000000000" iyy="0.0000125500" iyz="0.0000000000" izz="0.0000141700"/>
    </inertial>
  </link>

  <joint name="right_tactile_11" type="fixed">
    <axis xyz="1 0 0"/>
    <origin rpy="0 0 1.5707" xyz="0 0 0"/>
    <parent link="vx300/right_finger_link"/>
    <child link="vx300/right_tactile_map_link11"/>
  </joint>
  <link name="vx300/right_tactile_map_link11">
    <visual>
      <origin rpy="0 0 0" xyz="0.014 -0.026 0.006"/>
      <geometry>
        <box size="0.003001 0.01 0.01"/>
      </geometry>
      <material name="blue">
        <color rgba= "0 0 1 1"/>
      </material>
    </visual>
    <collision>
      <origin rpy="0 0 0" xyz="0.014 -0.026 0.006"/>
      <geometry>
        <box size="0.003001 0.01 0.01"/>
      </geometry>
    </collision>
    <inertial>
      <origin rpy="3.141592653589793 3.141592653589793 1.5707963267948966" xyz="0.0173440000 -0.0060692000 0.0000000000"/>
      <!-- <mass value="0.034796"/> -->
      <mass value="0.0001"/>
      <inertia ixx="0.0000243300" ixy="-0.0000024004" ixz="0.0000000000" iyy="0.0000125500" iyz="0.0000000000" izz="0.0000141700"/>
    </inertial>
  </link>

  <joint name="right_tactile_12" type="fixed">
    <axis xyz="1 0 0"/>
    <origin rpy="0 0 1.5707" xyz="0 0 0"/>
    <parent link="vx300/right_finger_link"/>
    <child link="vx300/right_tactile_map_link12"/>
  </joint>
  <link name="vx300/right_tactile_map_link12">
    <visual>
      <origin rpy="0 0 0" xyz="0.014 -0.026 0.018"/>
      <geometry>
        <box size="0.003001 0.01 0.01"/>
      </geometry>
      <material name="blue">
        <color rgba= "0 0 1 1"/>
      </material>
    </visual>
    <collision>
      <origin rpy="0 0 0" xyz="0.014 -0.026 0.018"/>
      <geometry>
        <box size="0.003001 0.01 0.01"/>
      </geometry>
    </collision>
    <inertial>
      <origin rpy="3.141592653589793 3.141592653589793 1.5707963267948966" xyz="0.0173440000 -0.0060692000 0.0000000000"/>
      <!-- <mass value="0.034796"/> -->
      <mass value="0.0001"/>
      <inertia ixx="0.0000243300" ixy="-0.0000024004" ixz="0.0000000000" iyy="0.0000125500" iyz="0.0000000000" izz="0.0000141700"/>
    </inertial>
  </link>

  <joint name="right_tactile_13" type="fixed">
    <axis xyz="1 0 0"/>
    <origin rpy="0 0 1.5707" xyz="0 0 0"/>
    <parent link="vx300/right_finger_link"/>
    <child link="vx300/right_tactile_map_link13"/>
  </joint>
  <link name="vx300/right_tactile_map_link13">
    <visual>
      <origin rpy="0 0 0" xyz="0.014 -0.014 -0.018"/>
      <geometry>
        <box size="0.003001 0.01 0.01"/>
      </geometry>
      <material name="blue">
        <color rgba= "0 0 1 1"/>
      </material>
    </visual>
    <collision>
      <origin rpy="0 0 0" xyz="0.014 -0.014 -0.018"/>
      <geometry>
        <box size="0.003001 0.01 0.01"/>
      </geometry>
    </collision>
    <inertial>
      <origin rpy="3.141592653589793 3.141592653589793 1.5707963267948966" xyz="0.0173440000 -0.0060692000 0.0000000000"/>
      <!-- <mass value="0.034796"/> -->
      <mass value="0.0001"/>
      <inertia ixx="0.0000243300" ixy="-0.0000024004" ixz="0.0000000000" iyy="0.0000125500" iyz="0.0000000000" izz="0.0000141700"/>
    </inertial>
  </link>

  <joint name="right_tactile_14" type="fixed">
    <axis xyz="1 0 0"/>
    <origin rpy="0 0 1.5707" xyz="0 0 0"/>
    <parent link="vx300/right_finger_link"/>
    <child link="vx300/right_tactile_map_link14"/>
  </joint>
  <link name="vx300/right_tactile_map_link14">
    <visual>
      <origin rpy="0 0 0" xyz="0.014 -0.014 -0.006"/>
      <geometry>
        <box size="0.003001 0.01 0.01"/>
      </geometry>
      <material name="blue">
        <color rgba= "0 0 1 1"/>
      </material>
    </visual>
    <collision>
      <origin rpy="0 0 0" xyz="0.014 -0.014 -0.006"/>
      <geometry>
        <box size="0.003001 0.01 0.01"/>
      </geometry>
    </collision>
    <inertial>
      <origin rpy="3.141592653589793 3.141592653589793 1.5707963267948966" xyz="0.0173440000 -0.0060692000 0.0000000000"/>
      <!-- <mass value="0.034796"/> -->
      <mass value="0.0001"/>
      <inertia ixx="0.0000243300" ixy="-0.0000024004" ixz="0.0000000000" iyy="0.0000125500" iyz="0.0000000000" izz="0.0000141700"/>
    </inertial>
  </link>

  <joint name="right_tactile_15" type="fixed">
    <axis xyz="1 0 0"/>
    <origin rpy="0 0 1.5707" xyz="0 0 0"/>
    <parent link="vx300/right_finger_link"/>
    <child link="vx300/right_tactile_map_link15"/>
  </joint>
  <link name="vx300/right_tactile_map_link15">
    <visual>
      <origin rpy="0 0 0" xyz="0.014 -0.014 0.006"/>
      <geometry>
        <box size="0.003001 0.01 0.01"/>
      </geometry>
      <material name="blue">
        <color rgba= "0 0 1 1"/>
      </material>
    </visual>
    <collision>
      <origin rpy="0 0 0" xyz="0.014 -0.014 0.006"/>
      <geometry>
        <box size="0.003001 0.01 0.01"/>
      </geometry>
    </collision>
    <inertial>
      <origin rpy="3.141592653589793 3.141592653589793 1.5707963267948966" xyz="0.0173440000 -0.0060692000 0.0000000000"/>
      <!-- <mass value="0.034796"/> -->
      <mass value="0.0001"/>
      <inertia ixx="0.0000243300" ixy="-0.0000024004" ixz="0.0000000000" iyy="0.0000125500" iyz="0.0000000000" izz="0.0000141700"/>
    </inertial>
  </link>

  <joint name="right_tactile_16" type="fixed">
    <axis xyz="1 0 0"/>
    <origin rpy="0 0 1.5707" xyz="0 0 0"/>
    <parent link="vx300/right_finger_link"/>
    <child link="vx300/right_tactile_map_link16"/>
  </joint>
  <link name="vx300/right_tactile_map_link16">
    <visual>
      <origin rpy="0 0 0" xyz="0.014 -0.014 0.018"/>
      <geometry>
        <box size="0.003001 0.01 0.01"/>
      </geometry>
      <material name="blue">
        <color rgba= "0 0 1 1"/>
      </material>
    </visual>
    <collision>
      <origin rpy="0 0 0" xyz="0.014 -0.014 0.018"/>
      <geometry>
        <box size="0.003001 0.01 0.01"/>
      </geometry>
    </collision>
    <inertial>
      <origin rpy="3.141592653589793 3.141592653589793 1.5707963267948966" xyz="0.0173440000 -0.0060692000 0.0000000000"/>
      <!-- <mass value="0.034796"/> -->
      <mass value="0.0001"/>
      <inertia ixx="0.0000243300" ixy="-0.0000024004" ixz="0.0000000000" iyy="0.0000125500" iyz="0.0000000000" izz="0.0000141700"/>
    </inertial>
  </link>


  <joint name="ee_gripper" type="fixed">
    <axis xyz="1 0 0"/>
    <origin rpy="0 0 0" xyz="0.0385 0 0"/>
    <parent link="vx300/fingers_link"/>
    <child link="vx300/ee_gripper_link"/>
  </joint>
  <link name="vx300/ee_gripper_link">
    <inertial>
      <mass value="0.001"/>
      <inertia ixx="0.0001" ixy="0" ixz="0" iyy="0.0001" iyz="0" izz="0.0001"/>
    </inertial>
  </link>
</robot>
